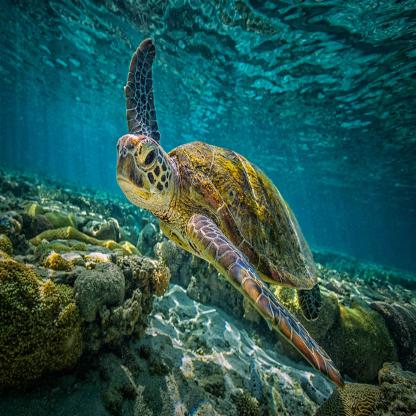turtle: (112, 125, 182, 224)
